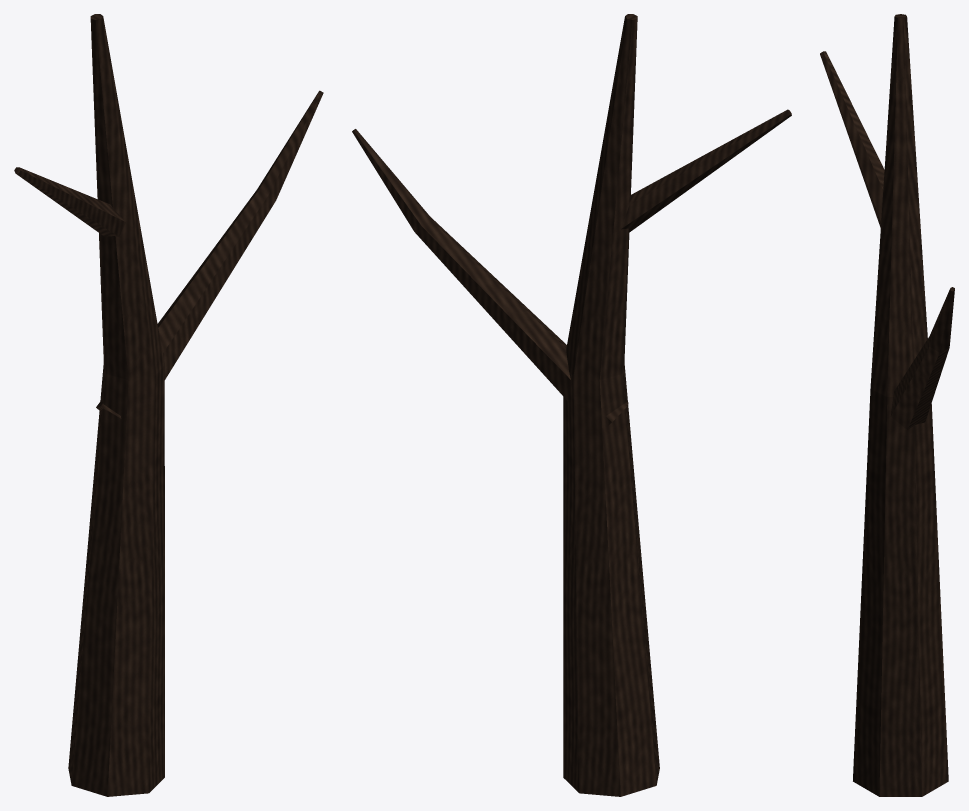
File: Tree_Dead.glb
3 renders of one model, left to right at view 1: azimuth 30°, elevation 25°; view 2: azimuth 150°, elevation 25°; view 3: azimuth 270°, elevation 25°, orthographic.
Parts seen in each view (by area): view 1: Tree_Dead; view 2: Tree_Dead; view 3: Tree_Dead.
Boxes of the visible parts, x1,y1,x2,y2 form: Tree_Dead: [14, 14, 323, 796]; Tree_Dead: [352, 14, 791, 796]; Tree_Dead: [820, 14, 954, 796].
Size of the model in its own units: 1.64 by 3.21 by 0.52.
1 material, 1 textured.
